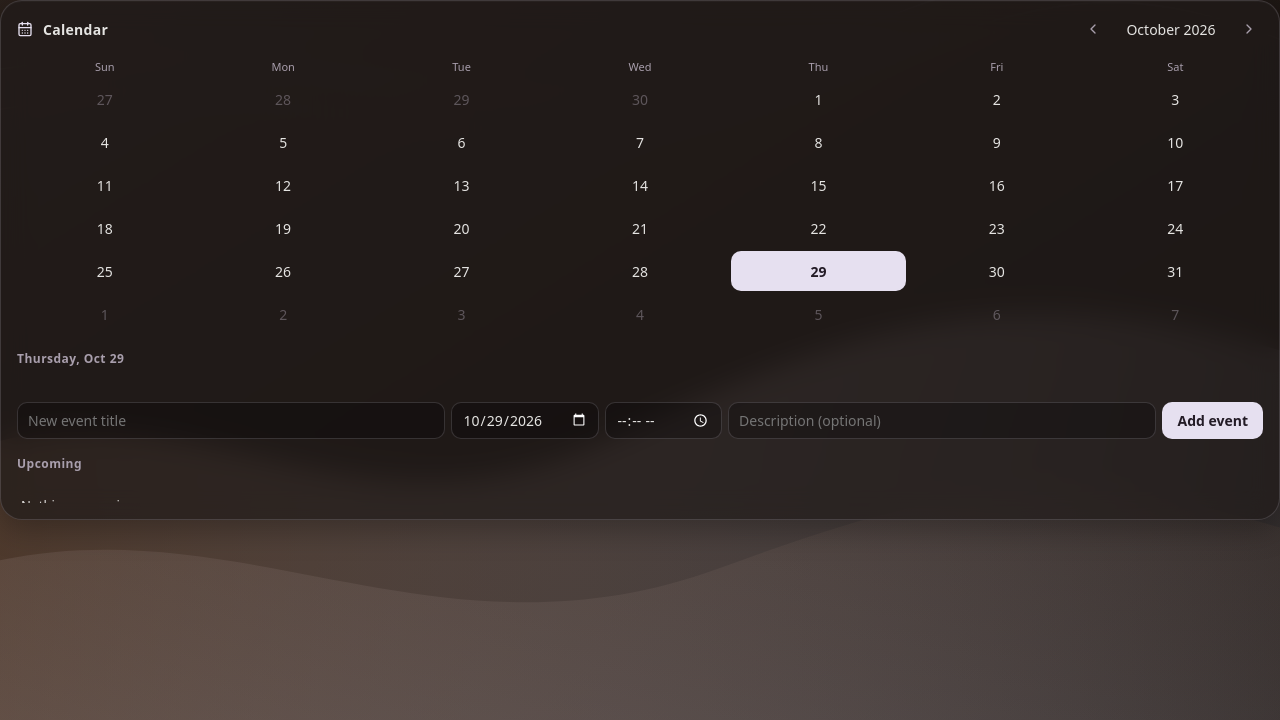
it: Calendar widget › adds, edits and deletes an event
Type "Standup" into the field labelled "event title" at (231, 420), box [17,402,445,439]
Click the button "Add event" at (1213, 420), box [1162,402,1263,439]
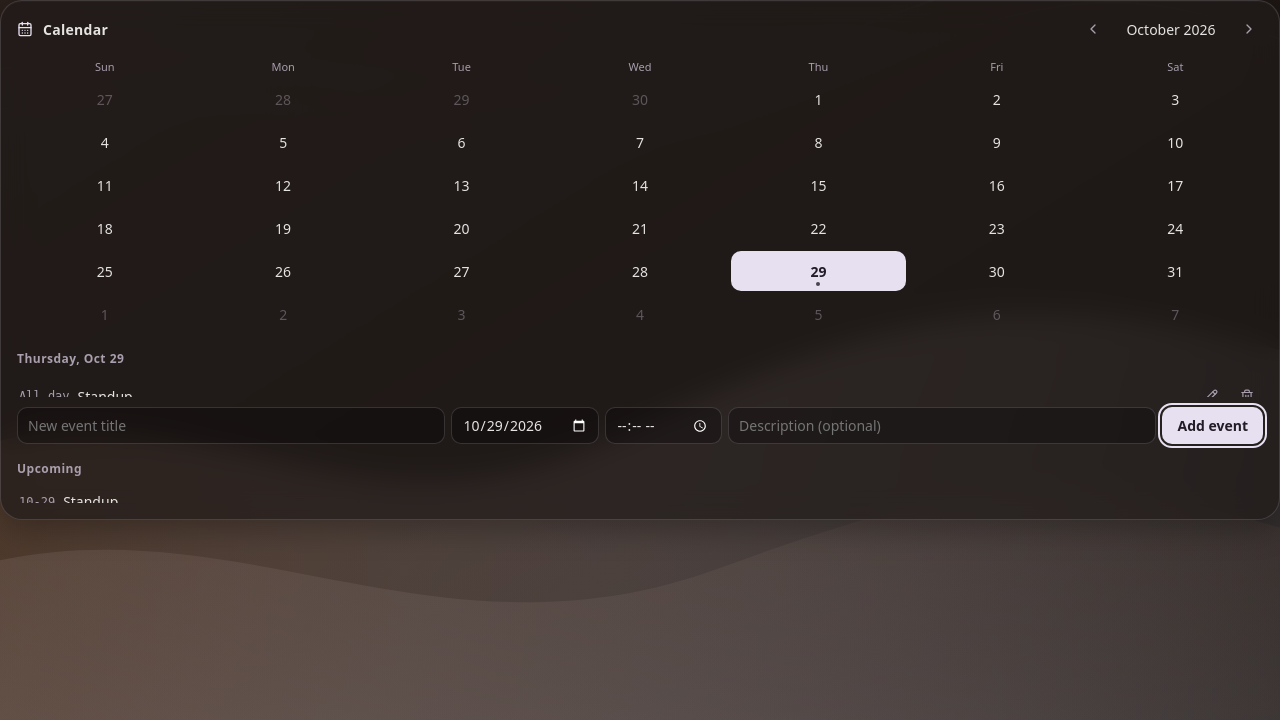
Click the button named "Edit event: Standup" at (1211, 396), box [1197,382,1225,410]
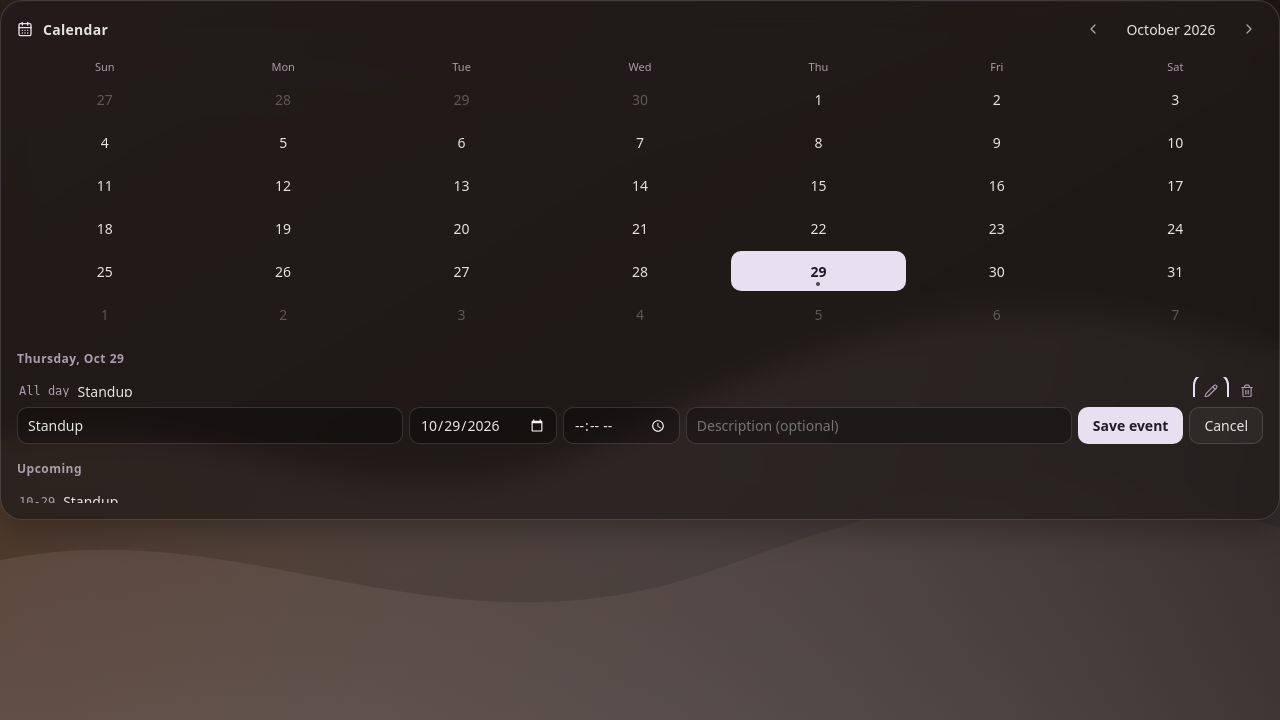
Replace the text in the field named "event title" with "Retro" at (210, 426), box [17,407,403,444]
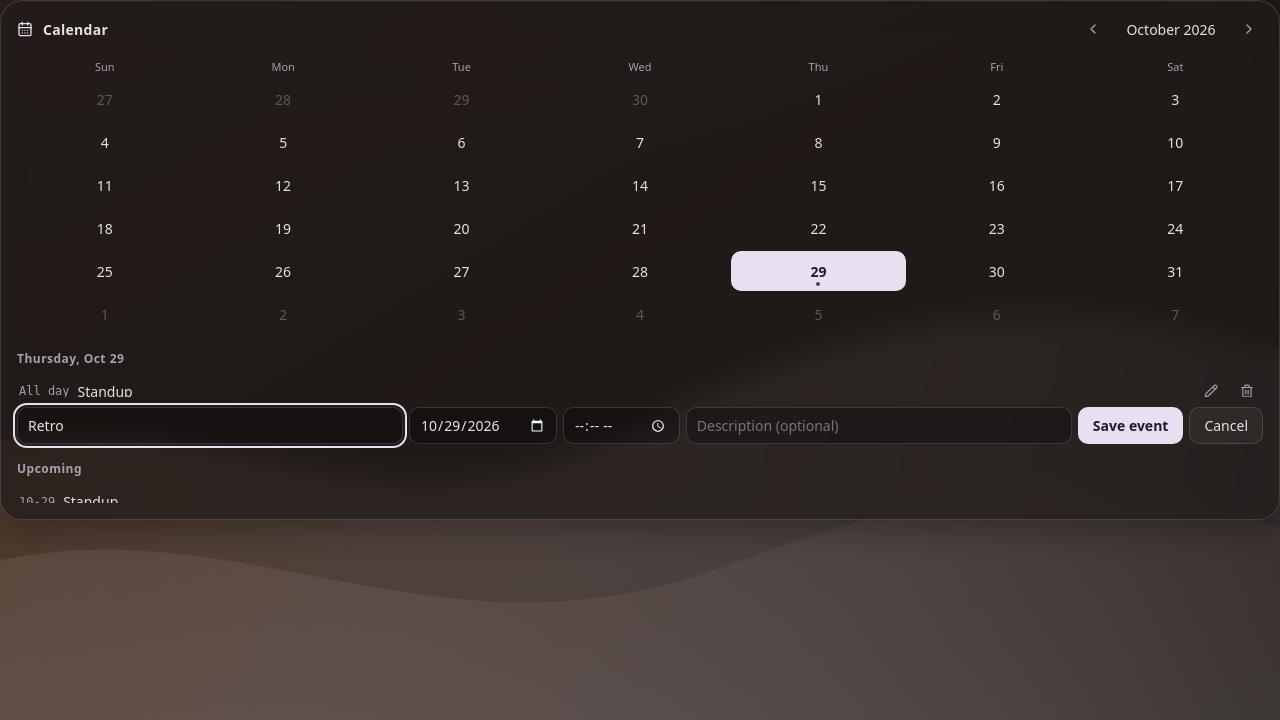
Click the button "Save event" at (1131, 426), box [1078,407,1183,444]
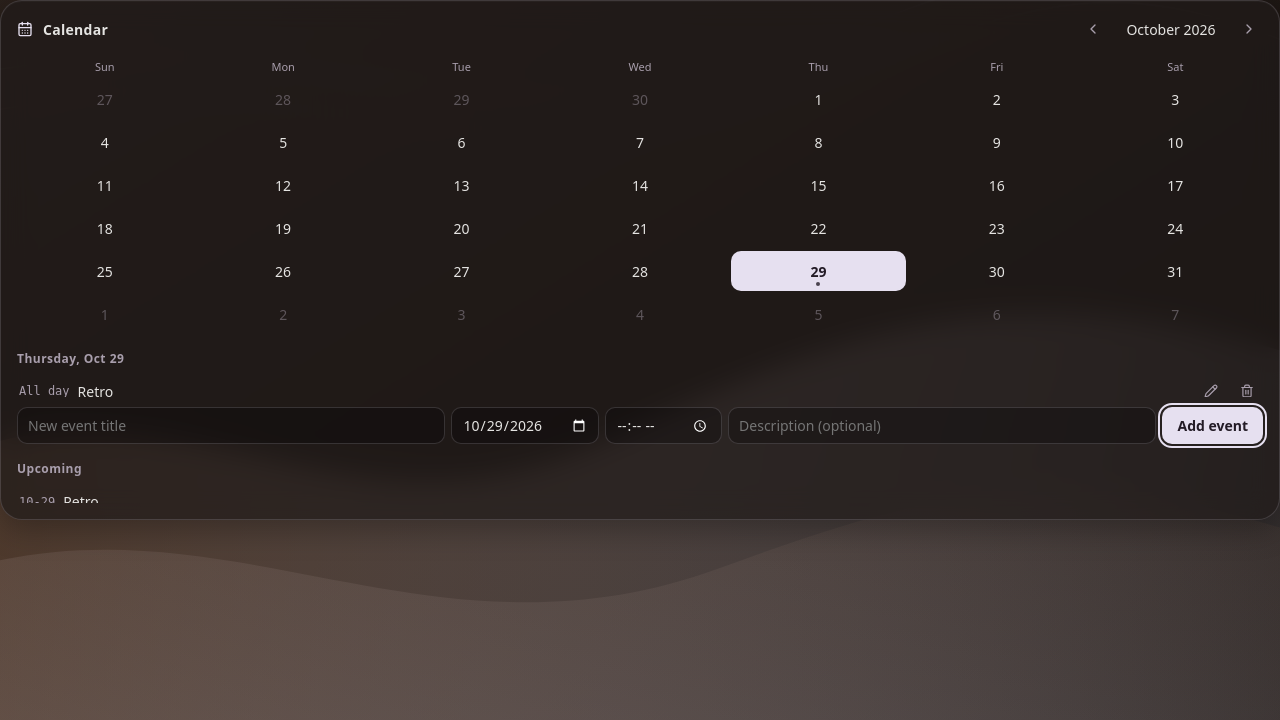
Expected: the text "Retro" next to "All day" is shown, [78,382,113,397]
Click the button named "Delete event: Retro" at (1247, 391), box [1233,377,1261,405]
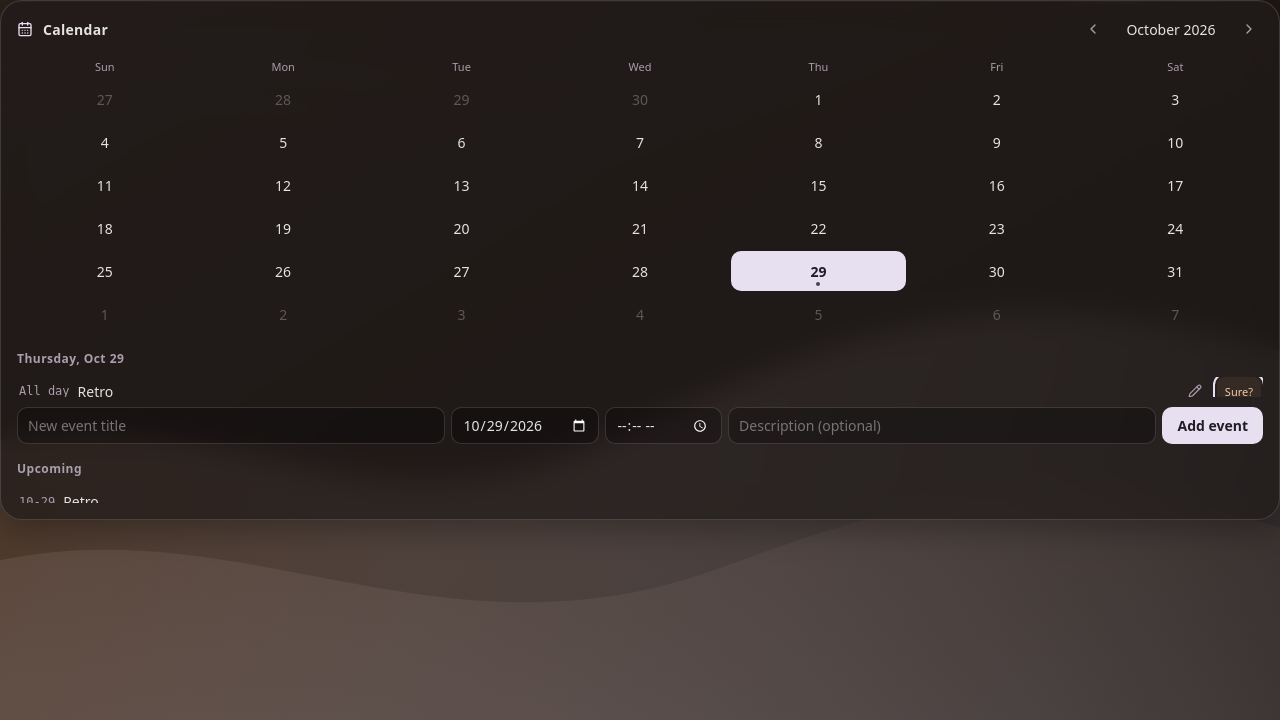
Click the button with aria-label "Confirm: Delete event: Retro" at (1239, 391), box [1217,377,1261,405]
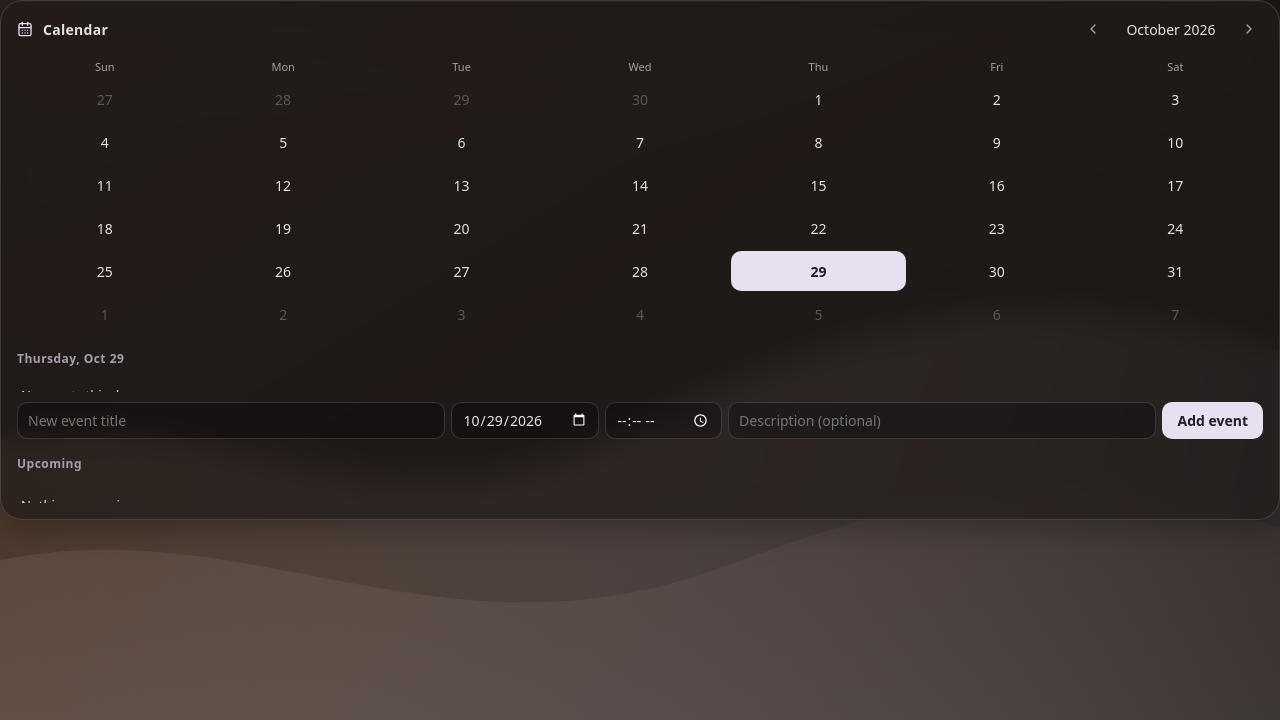
Expected: the text "Retro" is gone
